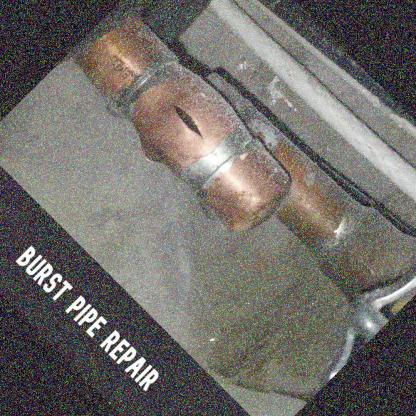burst: (162, 105, 207, 156)
